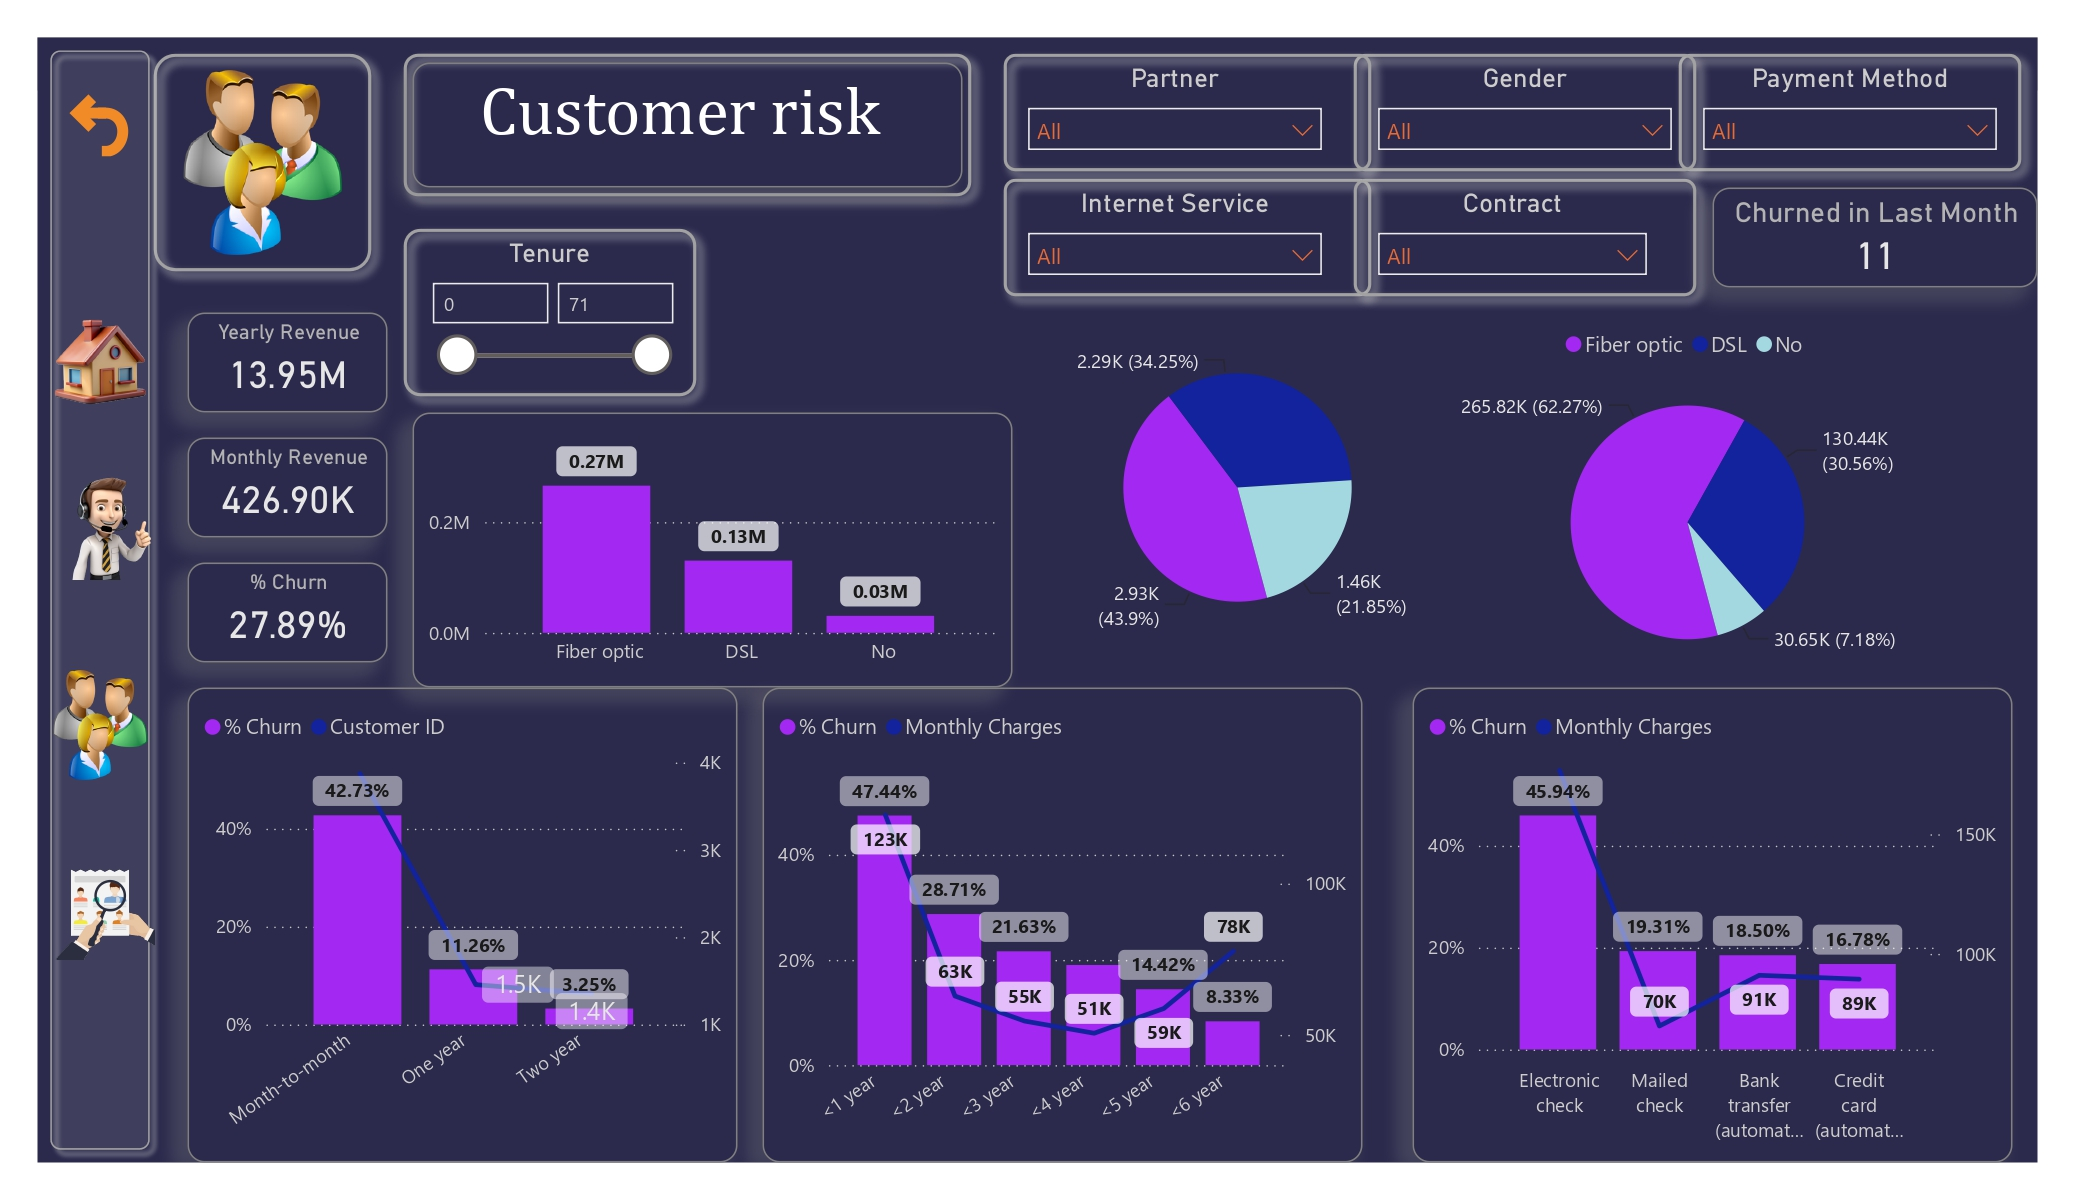

Layout of this report page (visuals, bound fields, positions):
{"tool":"powerbi","page":{"name":"Customer Risk","canvas":[1280,720],"ordinal":2},"visuals":[{"type":"shape","box":[608,80,256,96],"z":0},{"type":"shape","box":[832,80,240,96],"z":1000},{"type":"shape","box":[224,112,208,128],"z":2000},{"type":"shape","box":[1040,0,240,96],"z":3000},{"type":"shape","box":[832,0,240,96],"z":4000},{"type":"shape","box":[608,0,256,96],"z":5000},{"type":"shape","box":[64,0,160,160],"z":6000},{"type":"shape","box":[224,0,384,112],"z":7000},{"type":"shape","box":[0,0,80,720],"z":8000},{"type":"actionButton","box":[16,32,48,48],"z":9000},{"type":"card","title":"Yearly Revenue","fields":{"Values":["Sum(01 Churn-Dataset.TotalCharges)"]},"box":[96,176,128,64],"z":10000},{"type":"textbox","box":[240,16,352,80],"z":11000},{"type":"image","box":[80,16,128,128],"z":12000},{"type":"slicer","title":"Partner","fields":{"Values":["01 Churn-Dataset.Partner"]},"box":[624,16,208,80],"z":13000},{"type":"slicer","title":"Gender","fields":{"Values":["01 Churn-Dataset.gender"]},"box":[848,16,208,80],"z":14000},{"type":"slicer","title":"Payment Method","fields":{"Values":["01 Churn-Dataset.PaymentMethod"]},"box":[1056,16,208,80],"z":15000},{"type":"slicer","title":"Tenure","fields":{"Values":["01 Churn-Dataset.tenure"]},"box":[240,128,176,96],"z":16000},{"type":"slicer","title":"Internet Service","fields":{"Values":["01 Churn-Dataset.InternetService"]},"box":[624,96,208,80],"z":17000},{"type":"slicer","title":"Contract","fields":{"Values":["01 Churn-Dataset.Contract"]},"box":[848,96,192,80],"z":18000},{"type":"card","title":"Monthly Revenue","fields":{"Values":["Sum(01 Churn-Dataset.MonthlyCharges)"]},"box":[96,256,128,64],"z":19000},{"type":"image","box":[0,496,80,128],"z":20000},{"type":"image","box":[0,400,80,80],"z":21000},{"type":"image","box":[0,272,96,80],"z":22000},{"type":"image","box":[0,144,80,128],"z":23000},{"type":"lineStackedColumnComboChart","fields":{"Y":["Measure.% Churn"],"Category":["01 Churn-Dataset.Contract"],"Y2":["CountNonNull(01 Churn-Dataset.customerID)"]},"box":[96,416,352,304],"z":24000},{"type":"lineStackedColumnComboChart","fields":{"Y":["Measure.% Churn"],"Category":["01 Churn-Dataset.Tenure in year"],"Y2":["Sum(01 Churn-Dataset.MonthlyCharges)"]},"box":[464,416,384,304],"z":25000},{"type":"lineStackedColumnComboChart","fields":{"Y":["Measure.% Churn"],"Y2":["Sum(01 Churn-Dataset.MonthlyCharges)"],"Category":["01 Churn-Dataset.PaymentMethod"]},"box":[880,416,384,304],"z":26000},{"type":"pieChart","fields":{"Category":["01 Churn-Dataset.InternetService"],"Y":["Sum(01 Churn-Dataset.MonthlyCharges)"]},"box":[896,176,320,240],"z":27000},{"type":"lineStackedColumnComboChart","fields":{"Category":["01 Churn-Dataset.InternetService"],"Y":["Sum(01 Churn-Dataset.MonthlyCharges)"]},"box":[240,240,384,176],"z":28000},{"type":"pieChart","fields":{"Y":["CountNonNull(01 Churn-Dataset.customerID)"],"Category":["01 Churn-Dataset.InternetService"]},"box":[640,176,256,224],"z":29000},{"type":"card","title":"% Churn","fields":{"Values":["Measure.% Churn"]},"box":[96,336,128,64],"z":30000},{"type":"card","title":"Churned in Last Month","fields":{"Values":["Measure.TotalChurnedLastMonth"]},"box":[1072,96,208,64],"z":31000}]}

Visuals, with their boxes on the page's 1280x720 design canvas (x1, y1, x2, y2). These are canvas units, not pixel positions in the 2075x1200 screenshot, which may show the page scaled, cropped or inside an application window:
shape: [608,80,864,176]
shape: [832,80,1072,176]
shape: [224,112,432,240]
shape: [1040,0,1280,96]
shape: [832,0,1072,96]
shape: [608,0,864,96]
shape: [64,0,224,160]
shape: [224,0,608,112]
shape: [0,0,80,720]
actionButton: [16,32,64,80]
"Yearly Revenue" card: [96,176,224,240]
textbox: [240,16,592,96]
image: [80,16,208,144]
"Partner" slicer: [624,16,832,96]
"Gender" slicer: [848,16,1056,96]
"Payment Method" slicer: [1056,16,1264,96]
"Tenure" slicer: [240,128,416,224]
"Internet Service" slicer: [624,96,832,176]
"Contract" slicer: [848,96,1040,176]
"Monthly Revenue" card: [96,256,224,320]
image: [0,496,80,624]
image: [0,400,80,480]
image: [0,272,96,352]
image: [0,144,80,272]
lineStackedColumnComboChart - Measure.% Churn x 01 Churn-Dataset.Contract: [96,416,448,720]
lineStackedColumnComboChart - Measure.% Churn x 01 Churn-Dataset.Tenure in year: [464,416,848,720]
lineStackedColumnComboChart - Measure.% Churn x Sum(01 Churn-Dataset.MonthlyCharges): [880,416,1264,720]
pieChart - 01 Churn-Dataset.InternetService x Sum(01 Churn-Dataset.MonthlyCharges): [896,176,1216,416]
lineStackedColumnComboChart - 01 Churn-Dataset.InternetService x Sum(01 Churn-Dataset.MonthlyCharges): [240,240,624,416]
pieChart - CountNonNull(01 Churn-Dataset.customerID) x 01 Churn-Dataset.InternetService: [640,176,896,400]
"% Churn" card: [96,336,224,400]
"Churned in Last Month" card: [1072,96,1280,160]
